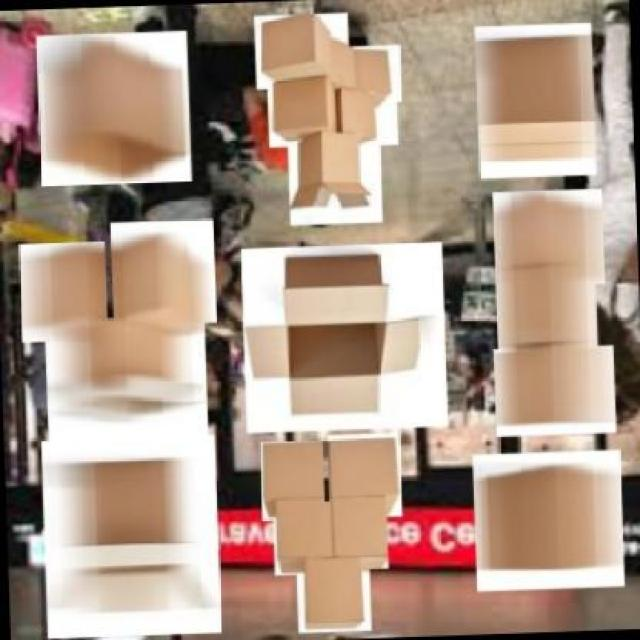box: (237, 238, 454, 436), (38, 431, 225, 640), (34, 28, 194, 188), (42, 312, 213, 452), (471, 447, 627, 593), (473, 18, 599, 182), (109, 217, 220, 328), (492, 342, 619, 438), (495, 253, 600, 367), (492, 187, 606, 288), (286, 122, 386, 227), (17, 239, 111, 344), (253, 11, 353, 91), (327, 430, 404, 521), (295, 554, 373, 634), (258, 438, 328, 520), (266, 78, 345, 148), (272, 499, 334, 576), (334, 42, 403, 106), (330, 86, 399, 148), (329, 502, 391, 570)
